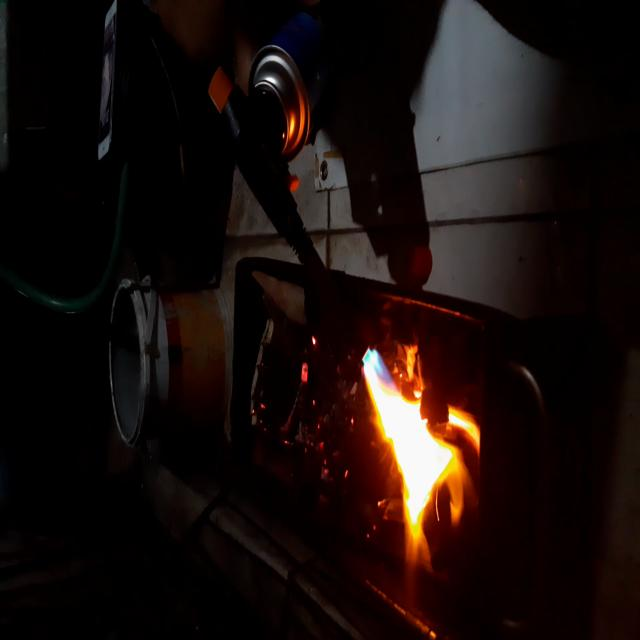Fire: (357, 325, 481, 569), (257, 349, 353, 490)
